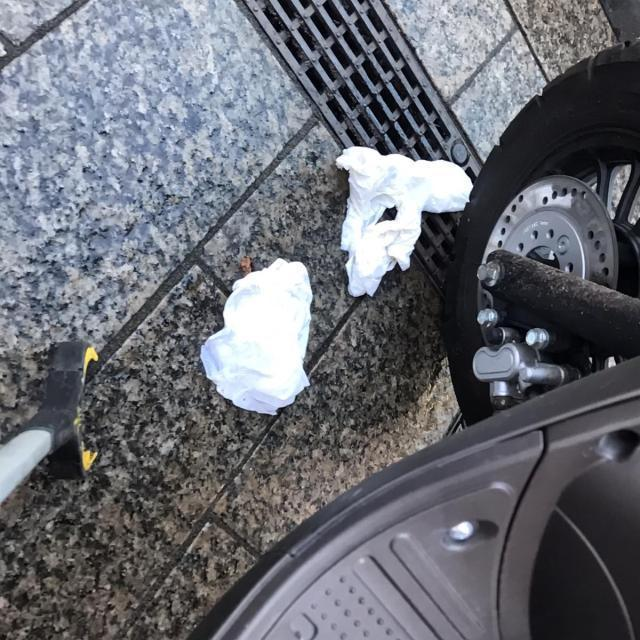Paper: (334, 145, 474, 298), (200, 257, 314, 417)
